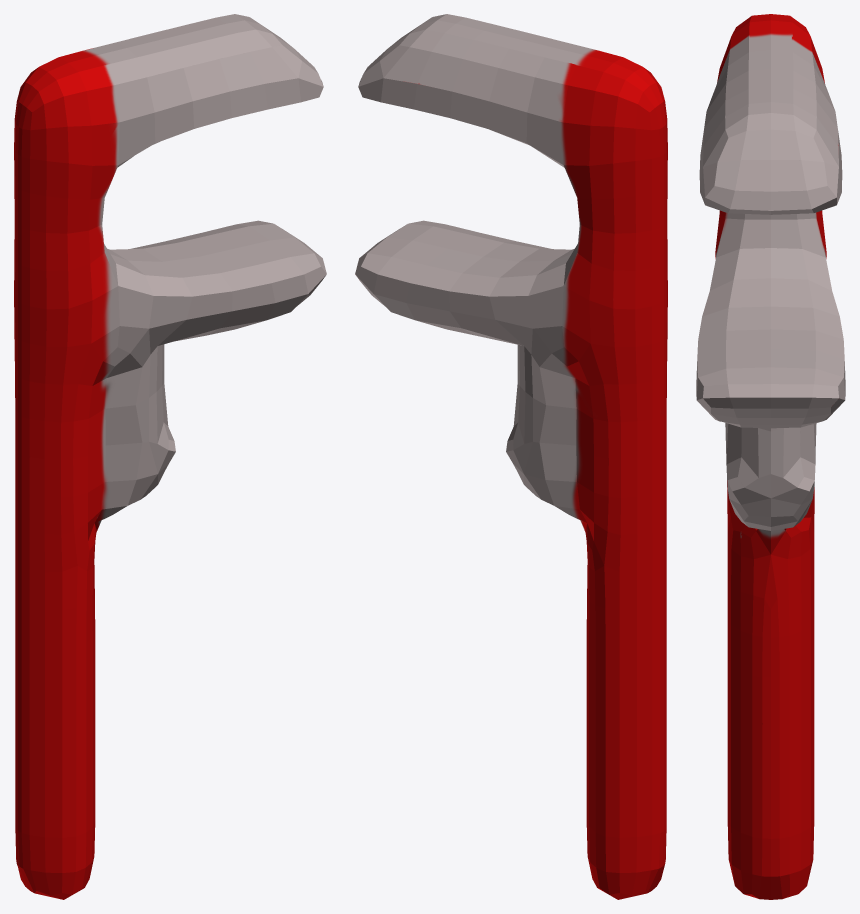
File: wrench.glb
3 views of the same model, side by side, from view 1: azimuth 30°, elevation 25°; view 2: azimuth 150°, elevation 25°; view 3: azimuth 270°, elevation 25° (orthographic). The views are drawn at different scales.
Parts seen in each view (by area): view 1: Cube; view 2: Cube; view 3: Cube.
Part boxes in pixels (x1,y1,x2,y2): Cube: (14, 14, 326, 899); Cube: (355, 14, 667, 899); Cube: (696, 14, 845, 899).
Bounding box in the file's own units: 0.7931 × 2.19 × 0.3352.
Materials: 1 (1 with a texture image).
